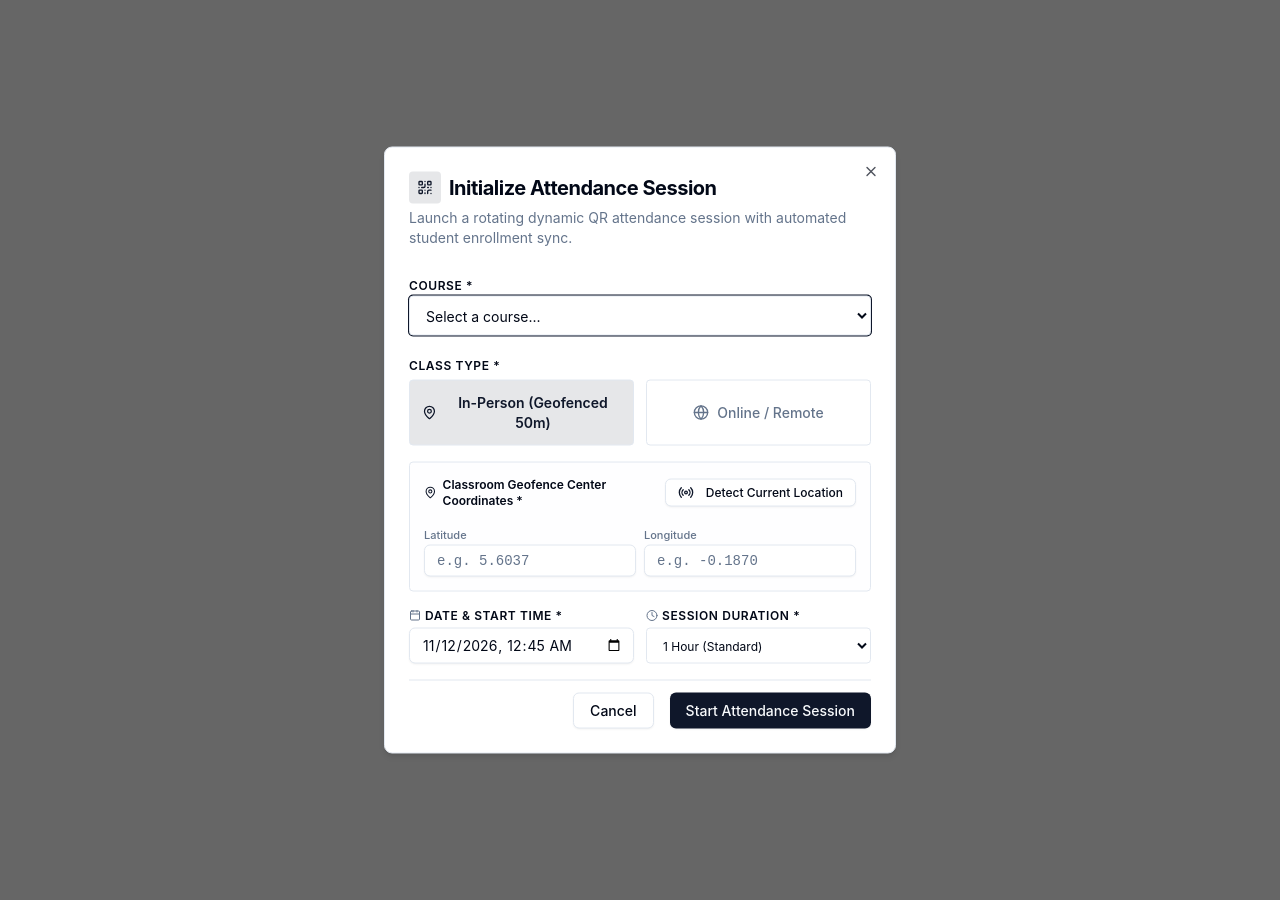
Test case: Attendance Dialogs, Projector & Components › InitializeSessionDialog › toggles to Online class type and clears coordinate requirements
Click the button "Online / Remote" at (758, 412), box x1=646 y1=380 x2=871 y2=446
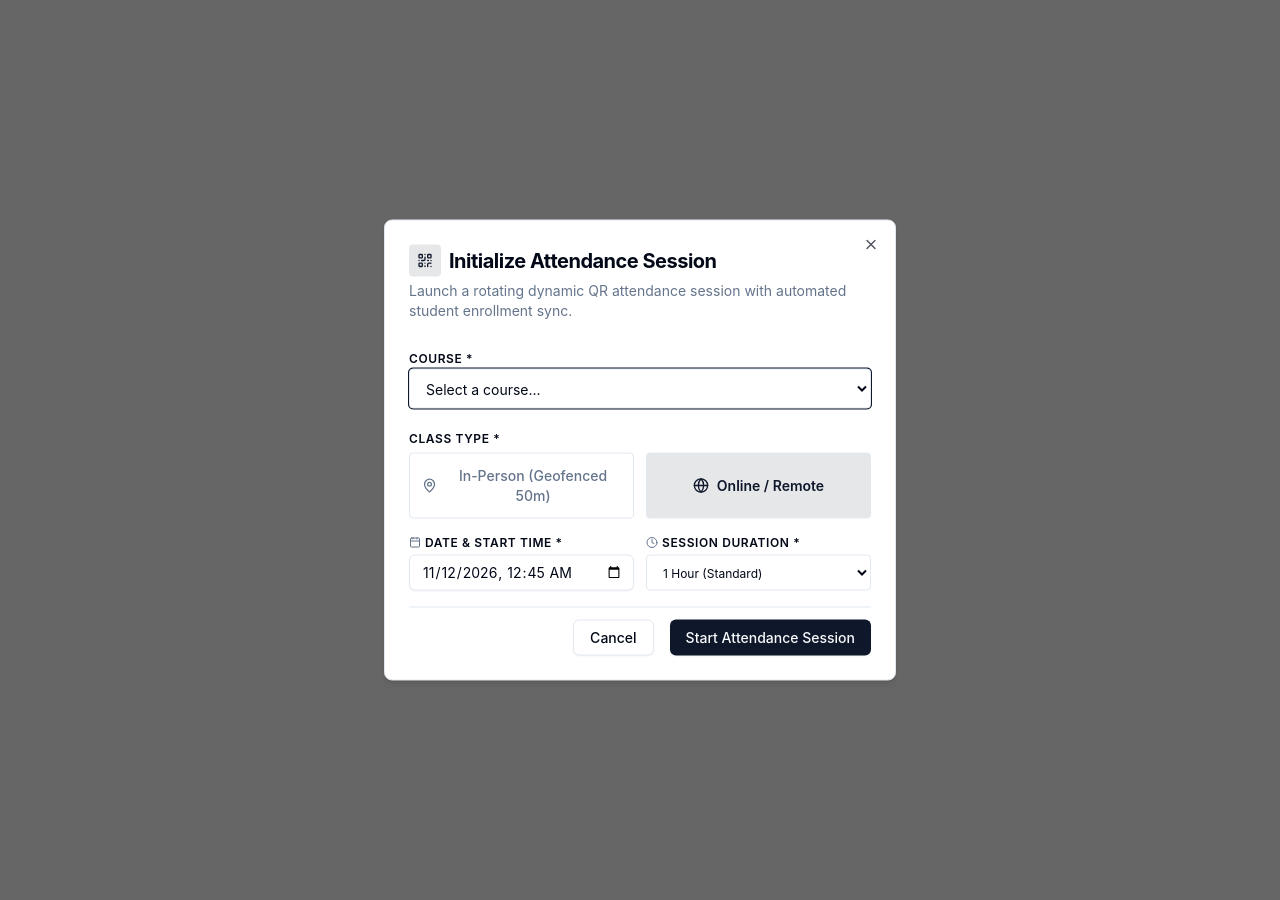
Now the text "Classroom Geofence Center Coordinates" is gone
